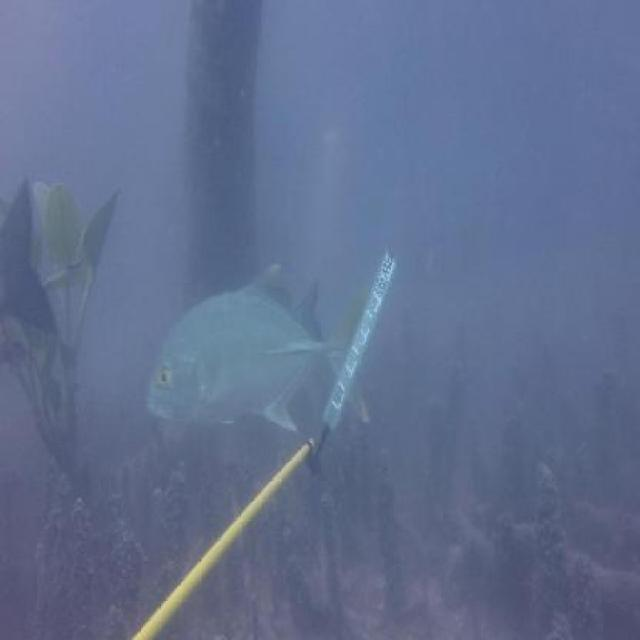Caranx: (151, 278, 374, 434)
acanthopagrus_palmaris: (1, 177, 62, 354), (236, 263, 327, 340)
